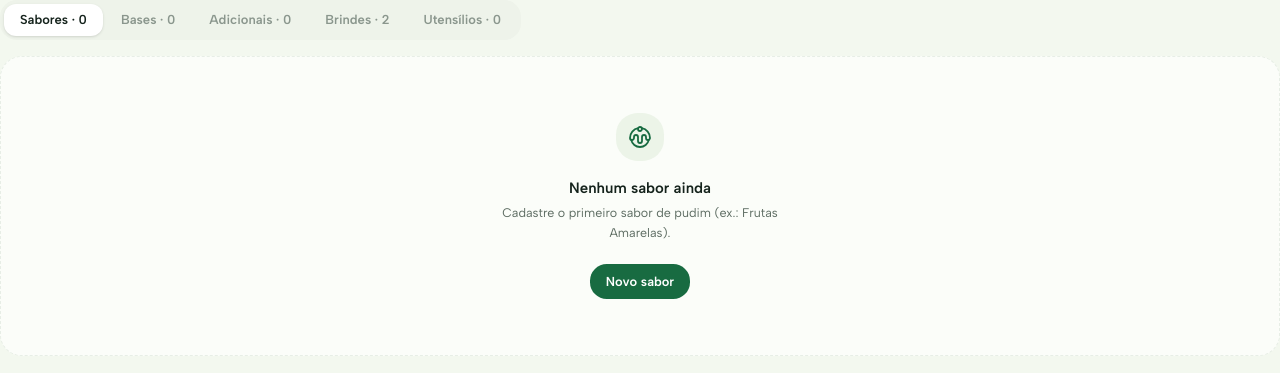
Scenario: PudimClient — tabs › switches tabs on click, showing that tab's empty state
This screenshot has width=1280, height=373.
Expected: the heading "Nenhum sabor ainda" is shown, [569,176,711,199]
Click the button "Bases · 0". click: (148,20)
box: [105,4,191,36]
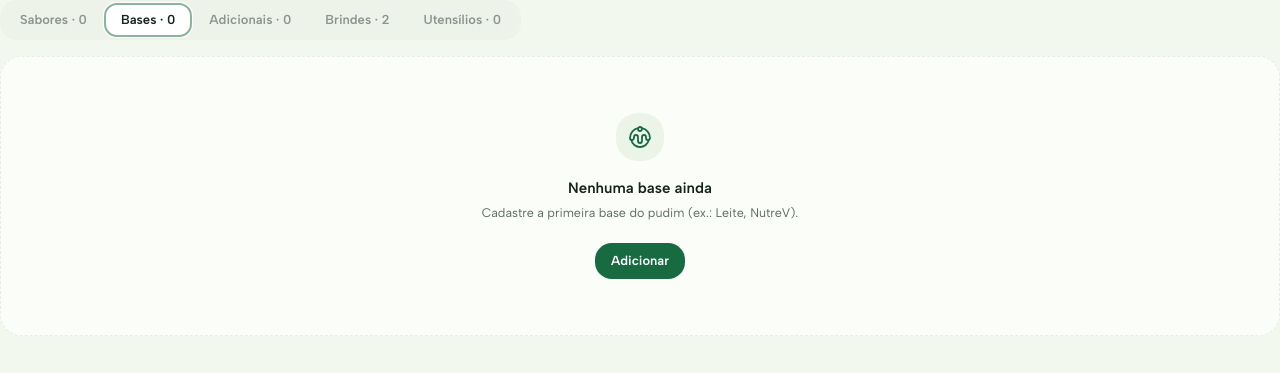
Expected: the heading "Nenhuma base ainda" is shown, [568,176,712,199]
Click the button "Adicionais · 0". click: (250,20)
box: [193,4,307,36]
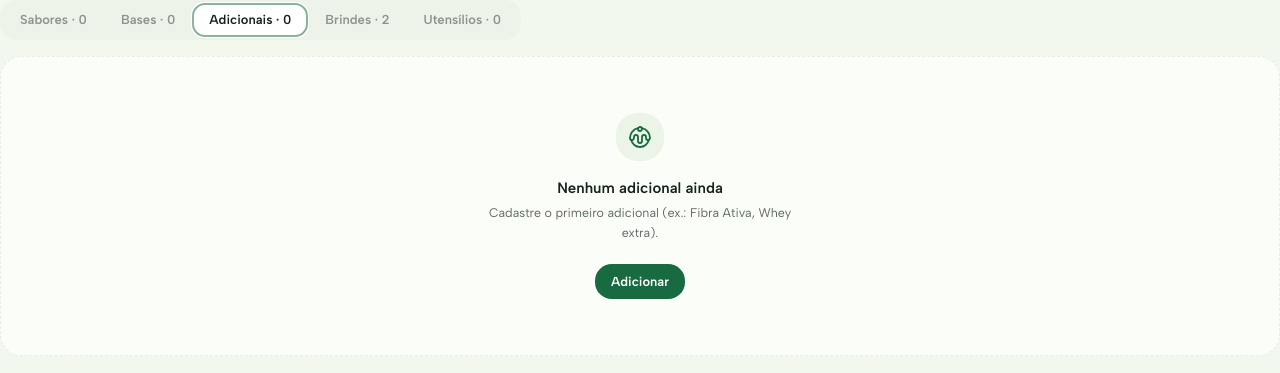
Expected: the heading "Nenhum adicional ainda" is shown, [557,176,723,199]
Click the button "Utensílios · 0". click: (462,20)
box: [408,4,517,36]
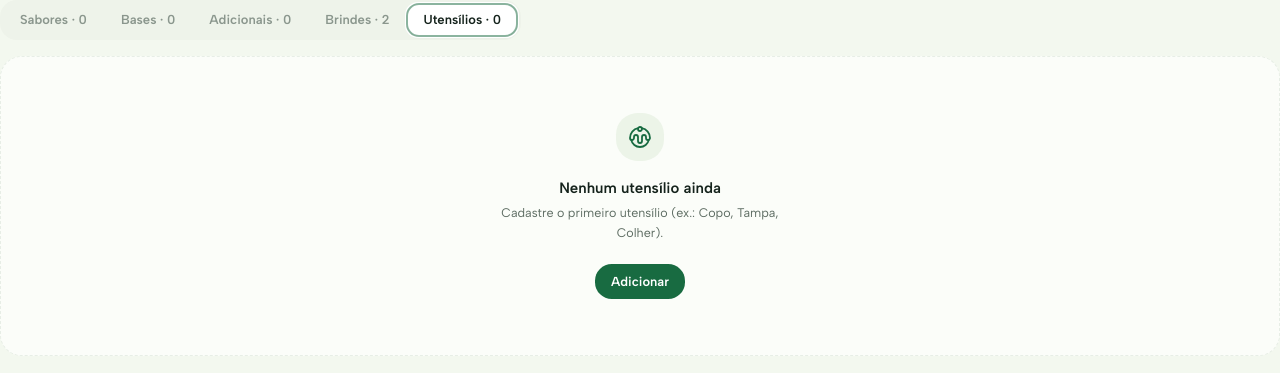
Expected: the heading "Nenhum utensílio ainda" is shown, [559,176,721,199]
